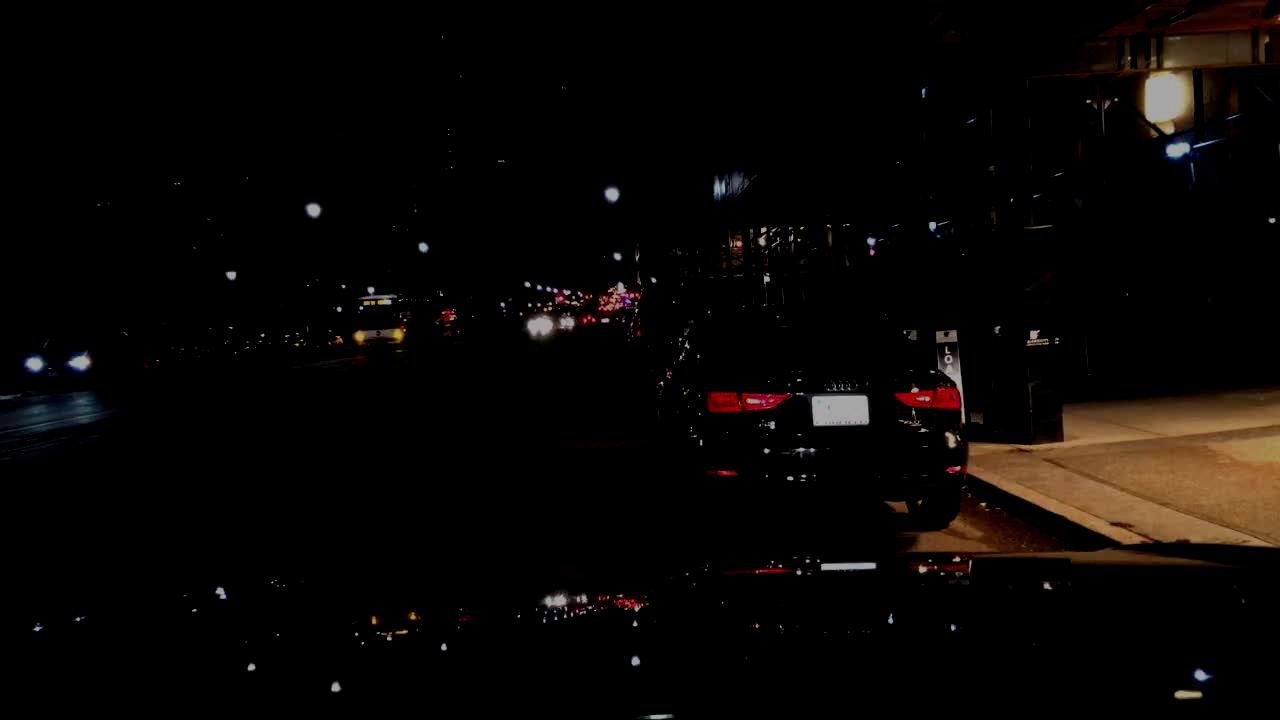Audi: (822, 377, 859, 395)
